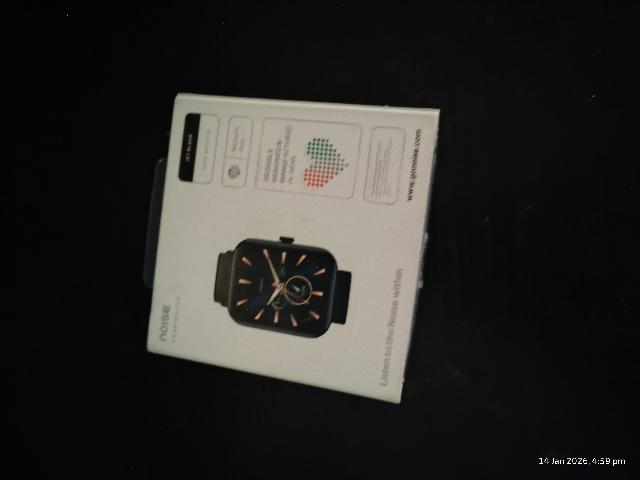noise victor smartwatch: (154, 98, 412, 363)
